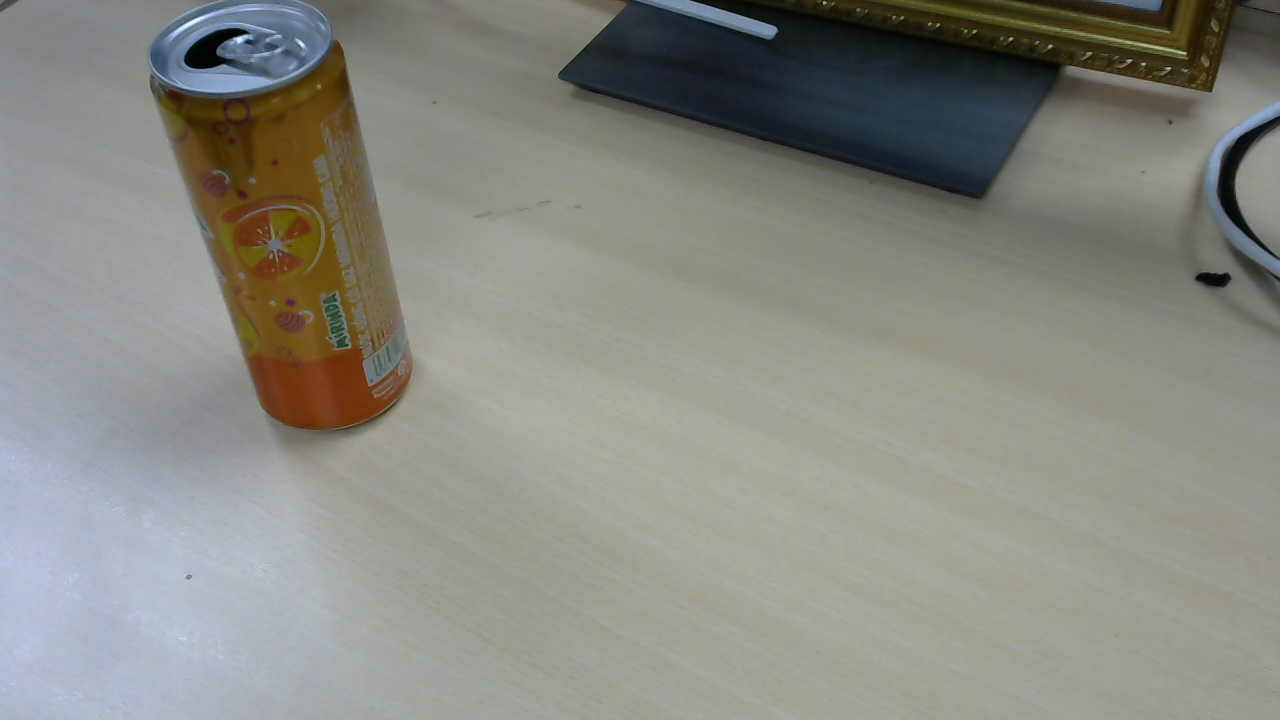Mirinda: (149, 6, 420, 438)
